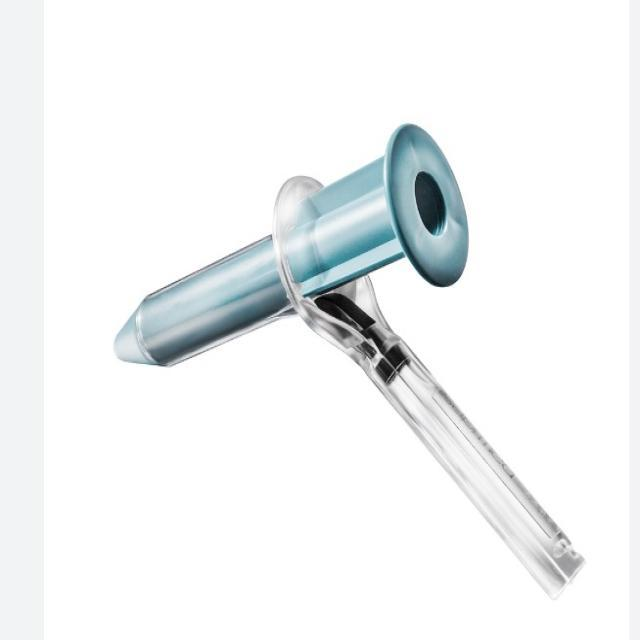Protoscope: (109, 106, 587, 604)
